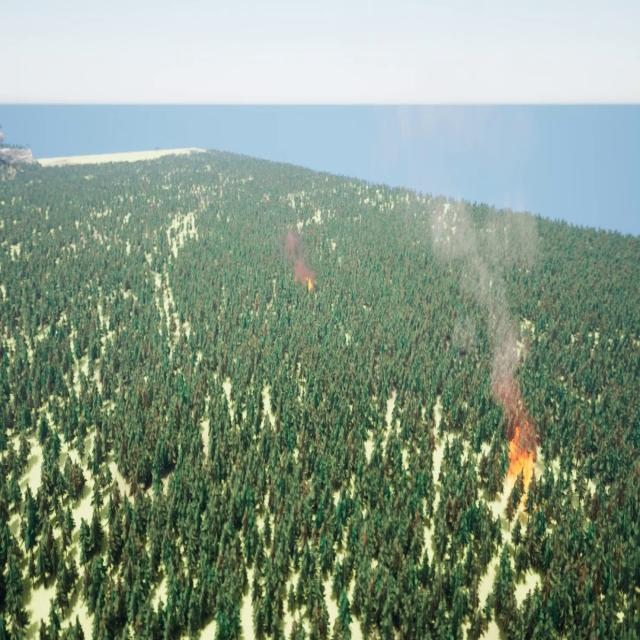fire: (508, 428, 536, 491)
smoke: (427, 195, 542, 422), (286, 230, 315, 288)
